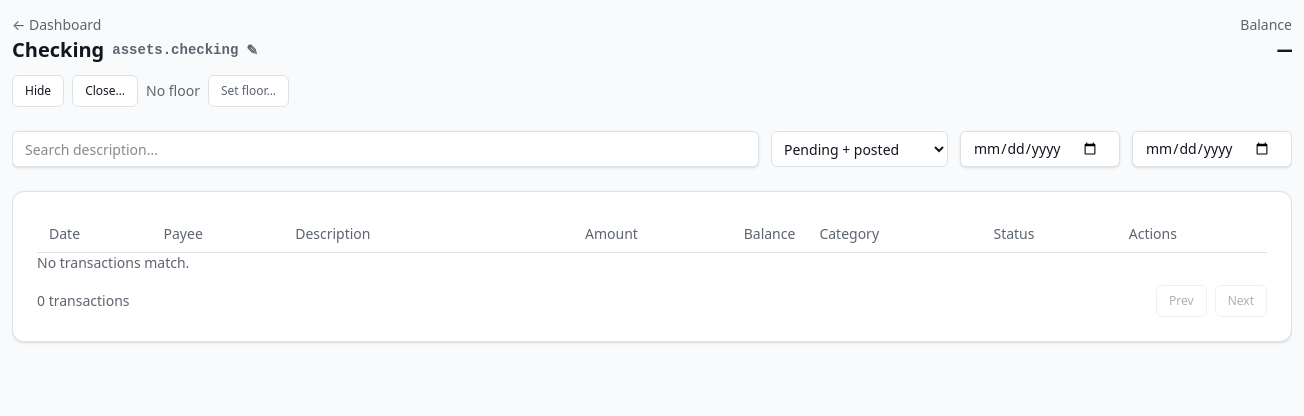
Test case: AccountRegister minimum balance (#466) › shows the server's refusal
Click the button "Set floor…" at (249, 91), box [208,75,289,107]
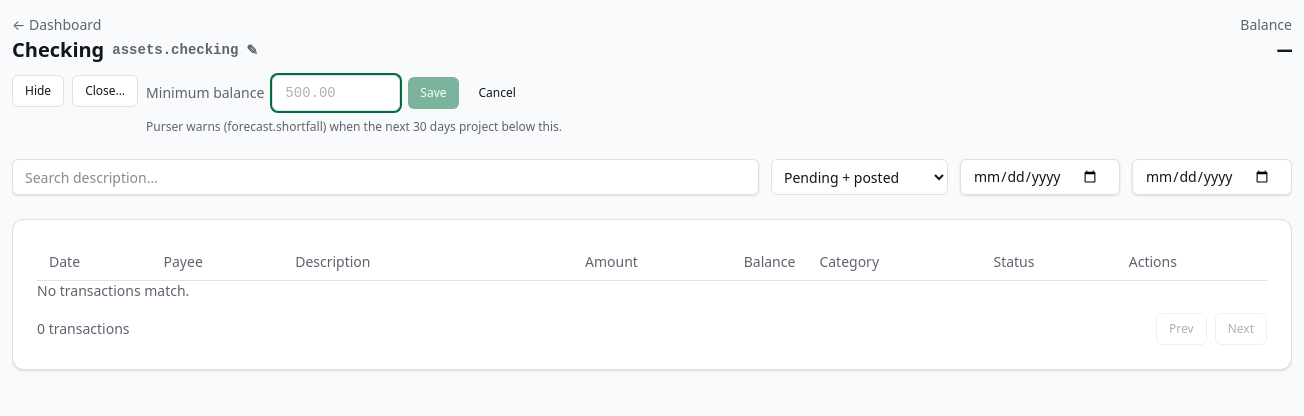
Type "500" into the field labelled "Minimum balance" at (336, 93), box [272,75,400,111]
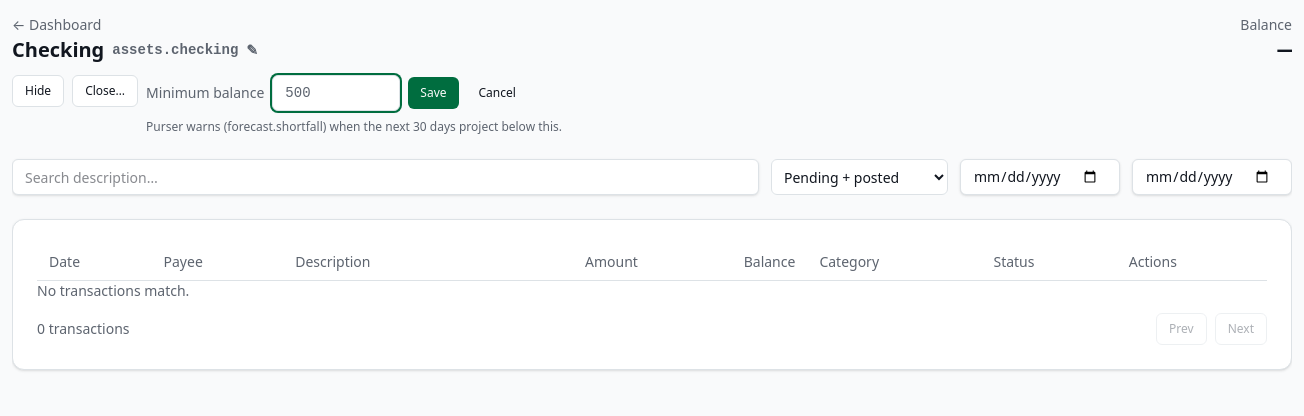
Click the button "Save" at (433, 93), box [408,77,458,109]
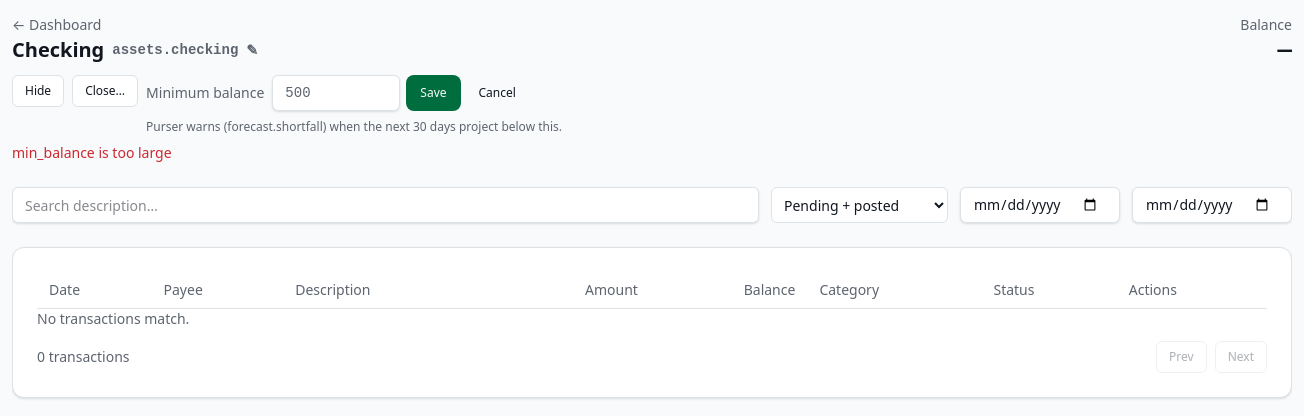
Expected: the text "min_balance is too large" is shown, [12,143,172,162]
